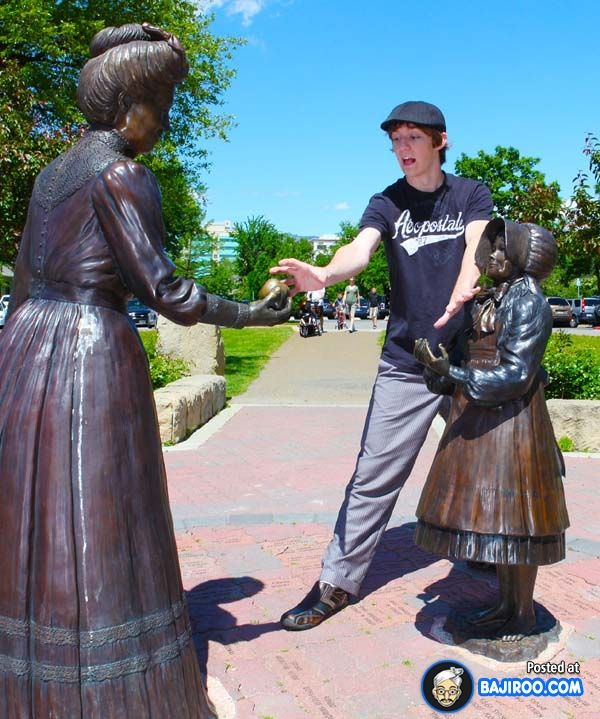person: (266, 96, 499, 637)
person-like: (12, 21, 297, 719), (408, 213, 576, 648)
